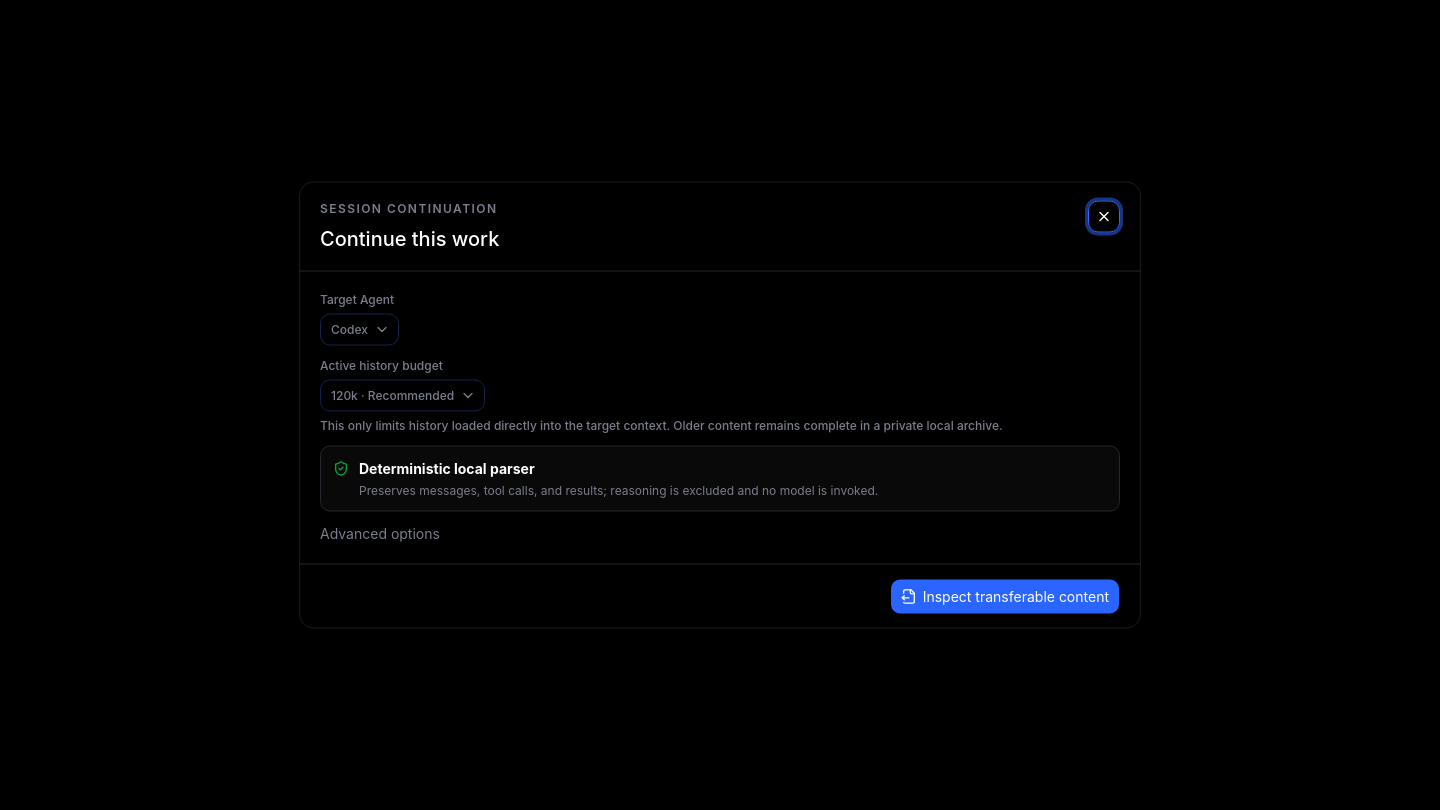
Test case: SessionHandoffDialog › offers MCP setup for Codex
This screenshot has width=1440, height=810.
What coordinates should you click on to do the following:
click the button "Inspect transferable content"
I would click on:
 (1005, 596)
Its box is left=890, top=578, right=1120, bottom=614.
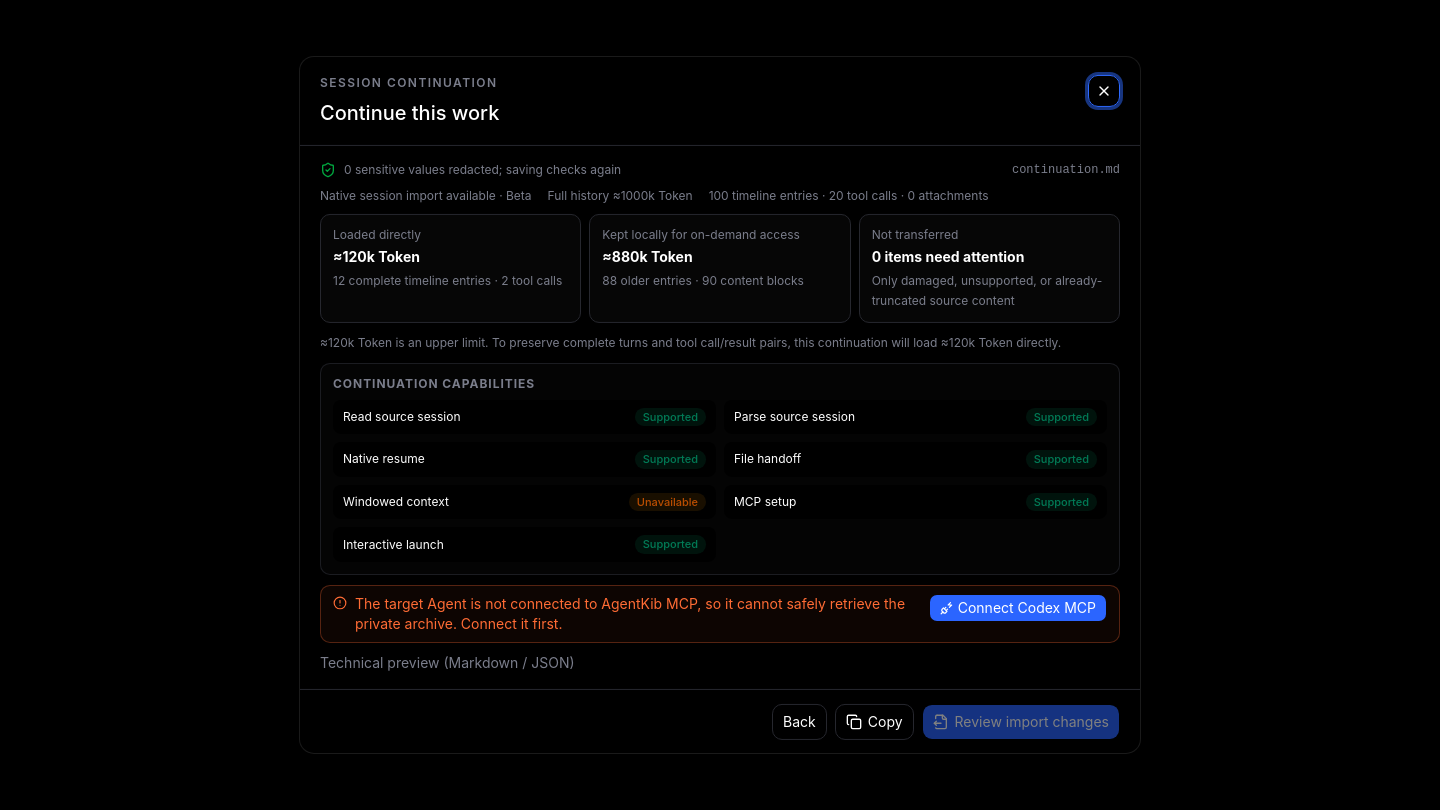
Now the button "Connect Codex MCP" is shown, box left=929, top=594, right=1107, bottom=622
